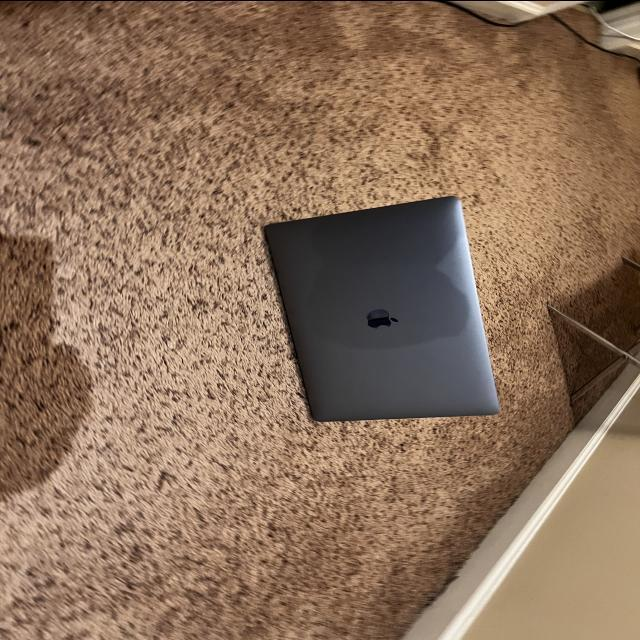laptop: (262, 194, 500, 422)
